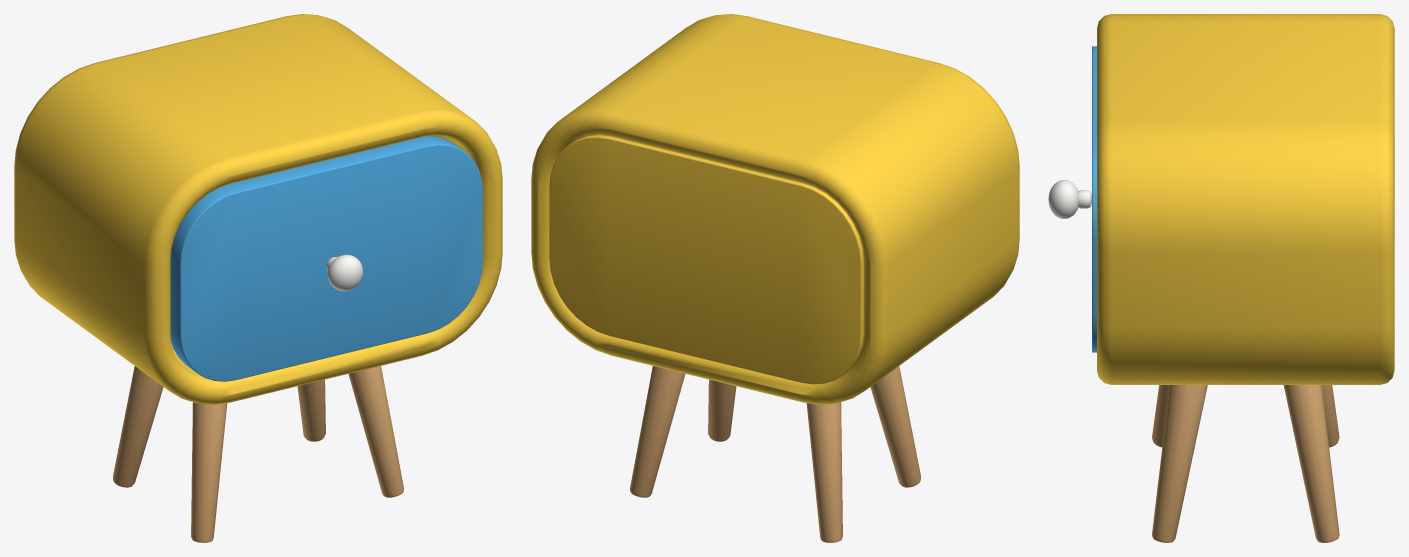
Rendered from criado_oval_amarelo.glb.
The picture shows the model from 3 angles, left to right: view 1: azimuth 30°, elevation 25°; view 2: azimuth 150°, elevation 25°; view 3: azimuth 270°, elevation 25°; orthographic projection. The views are drawn at different scales.
Parts seen in each view (by area): view 1: criado_oval_amarelo, gaveta_1; view 2: criado_oval_amarelo; view 3: criado_oval_amarelo, gaveta_1.
Part boxes in pixels (x1=…): criado_oval_amarelo: x1=14, y1=14, x2=502, y2=542; gaveta_1: x1=170, y1=136, x2=482, y2=381; criado_oval_amarelo: x1=531, y1=14, x2=1019, y2=542; criado_oval_amarelo: x1=1097, y1=14, x2=1394, y2=542; gaveta_1: x1=1048, y1=46, x2=1096, y2=352.
Size of the model in its own units: 0.52 by 0.562 by 0.4186.
Materials: 1 (1 with a texture image).
